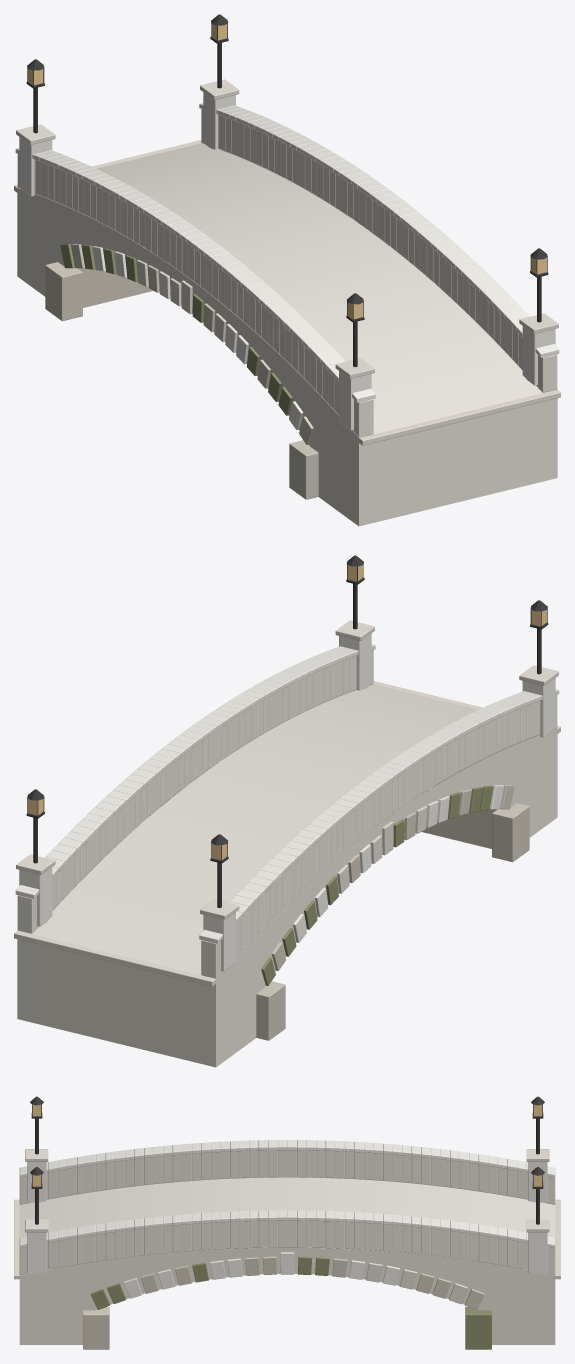
File: Bridge.fbx
The picture shows the model from 3 angles, top to bottom: view 1: azimuth 30°, elevation 25°; view 2: azimuth 150°, elevation 25°; view 3: azimuth 270°, elevation 25°; orthographic projection. The views are drawn at different scales.
Parts seen in each view (by area): view 1: Bridge; view 2: Bridge; view 3: Bridge.
Boxes of the visible parts, left/top/right/bottom form: Bridge: left=14, top=14, right=560, bottom=526; Bridge: left=14, top=555, right=560, bottom=1067; Bridge: left=14, top=1096, right=560, bottom=1349.
Bounding box in the file's own units: 5.3 × 5.04 × 14.3.
